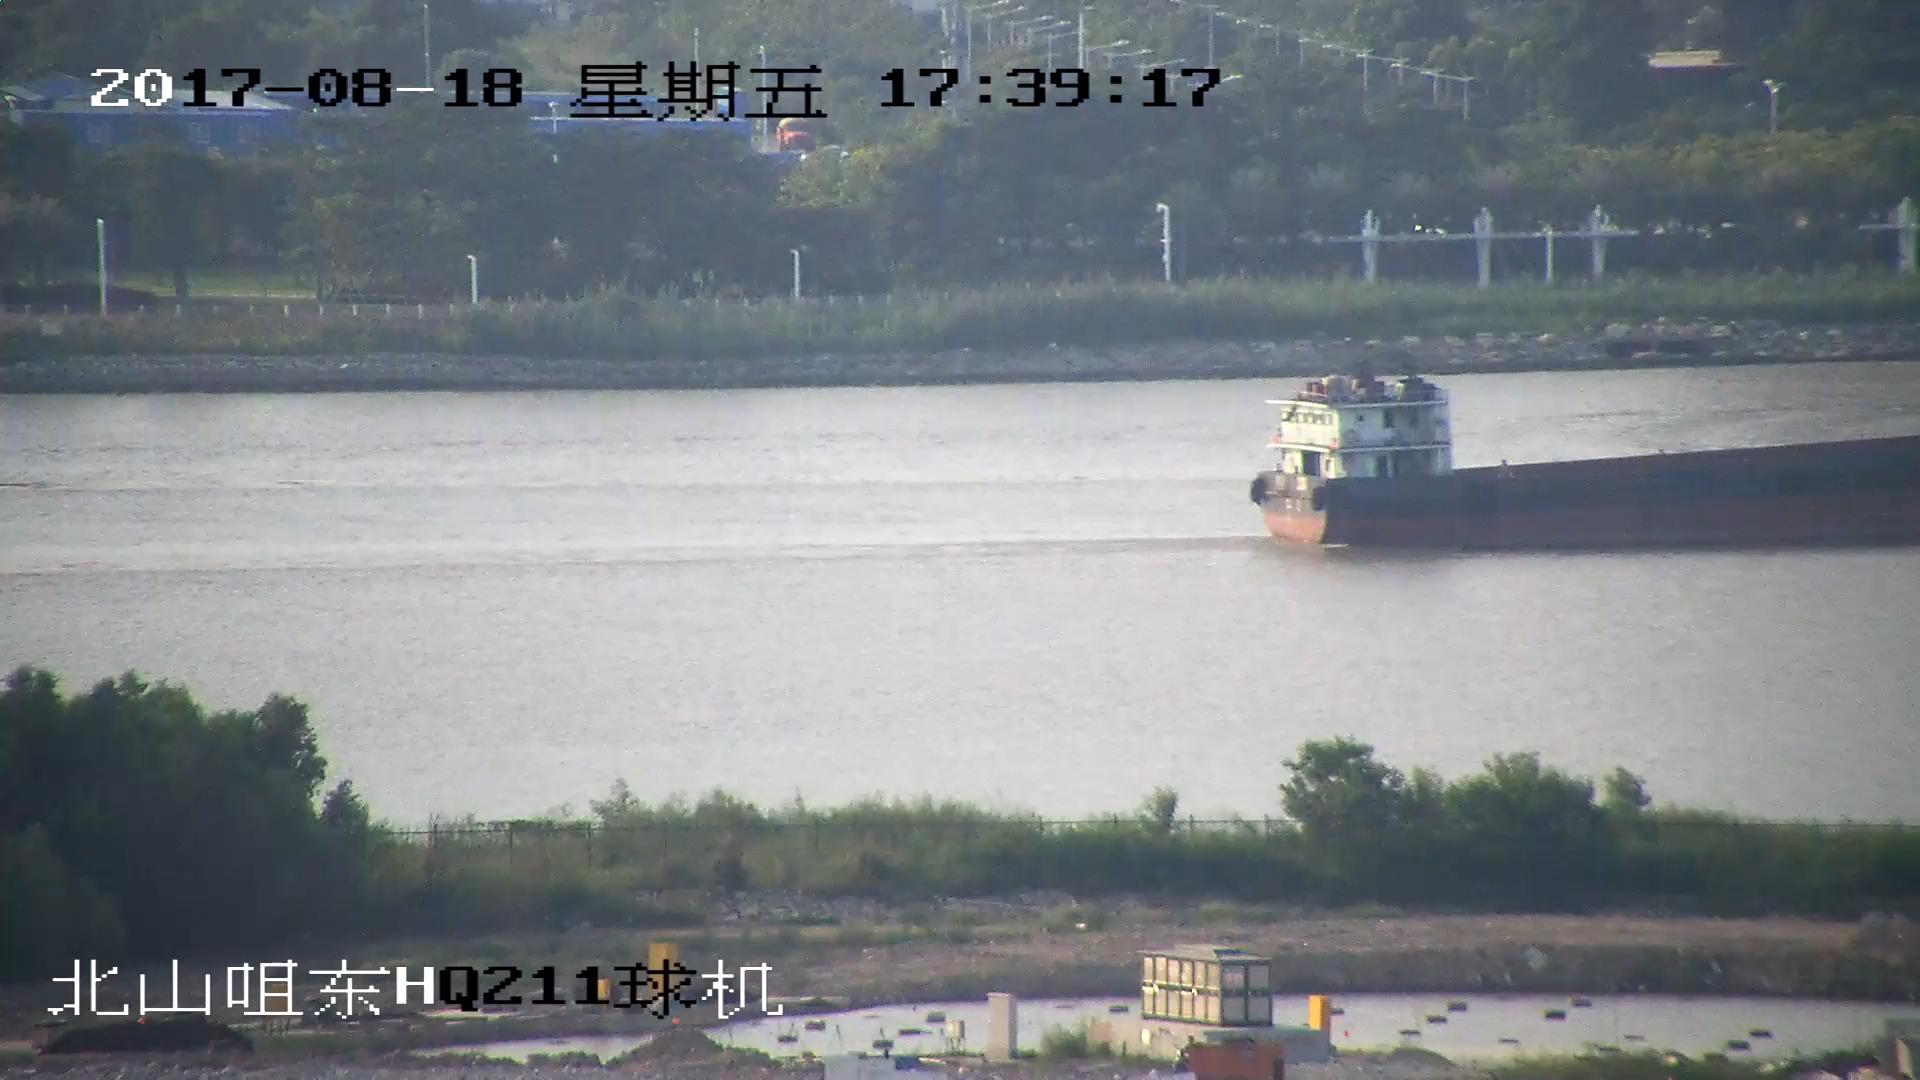Ship: (1246, 378, 1920, 549)
